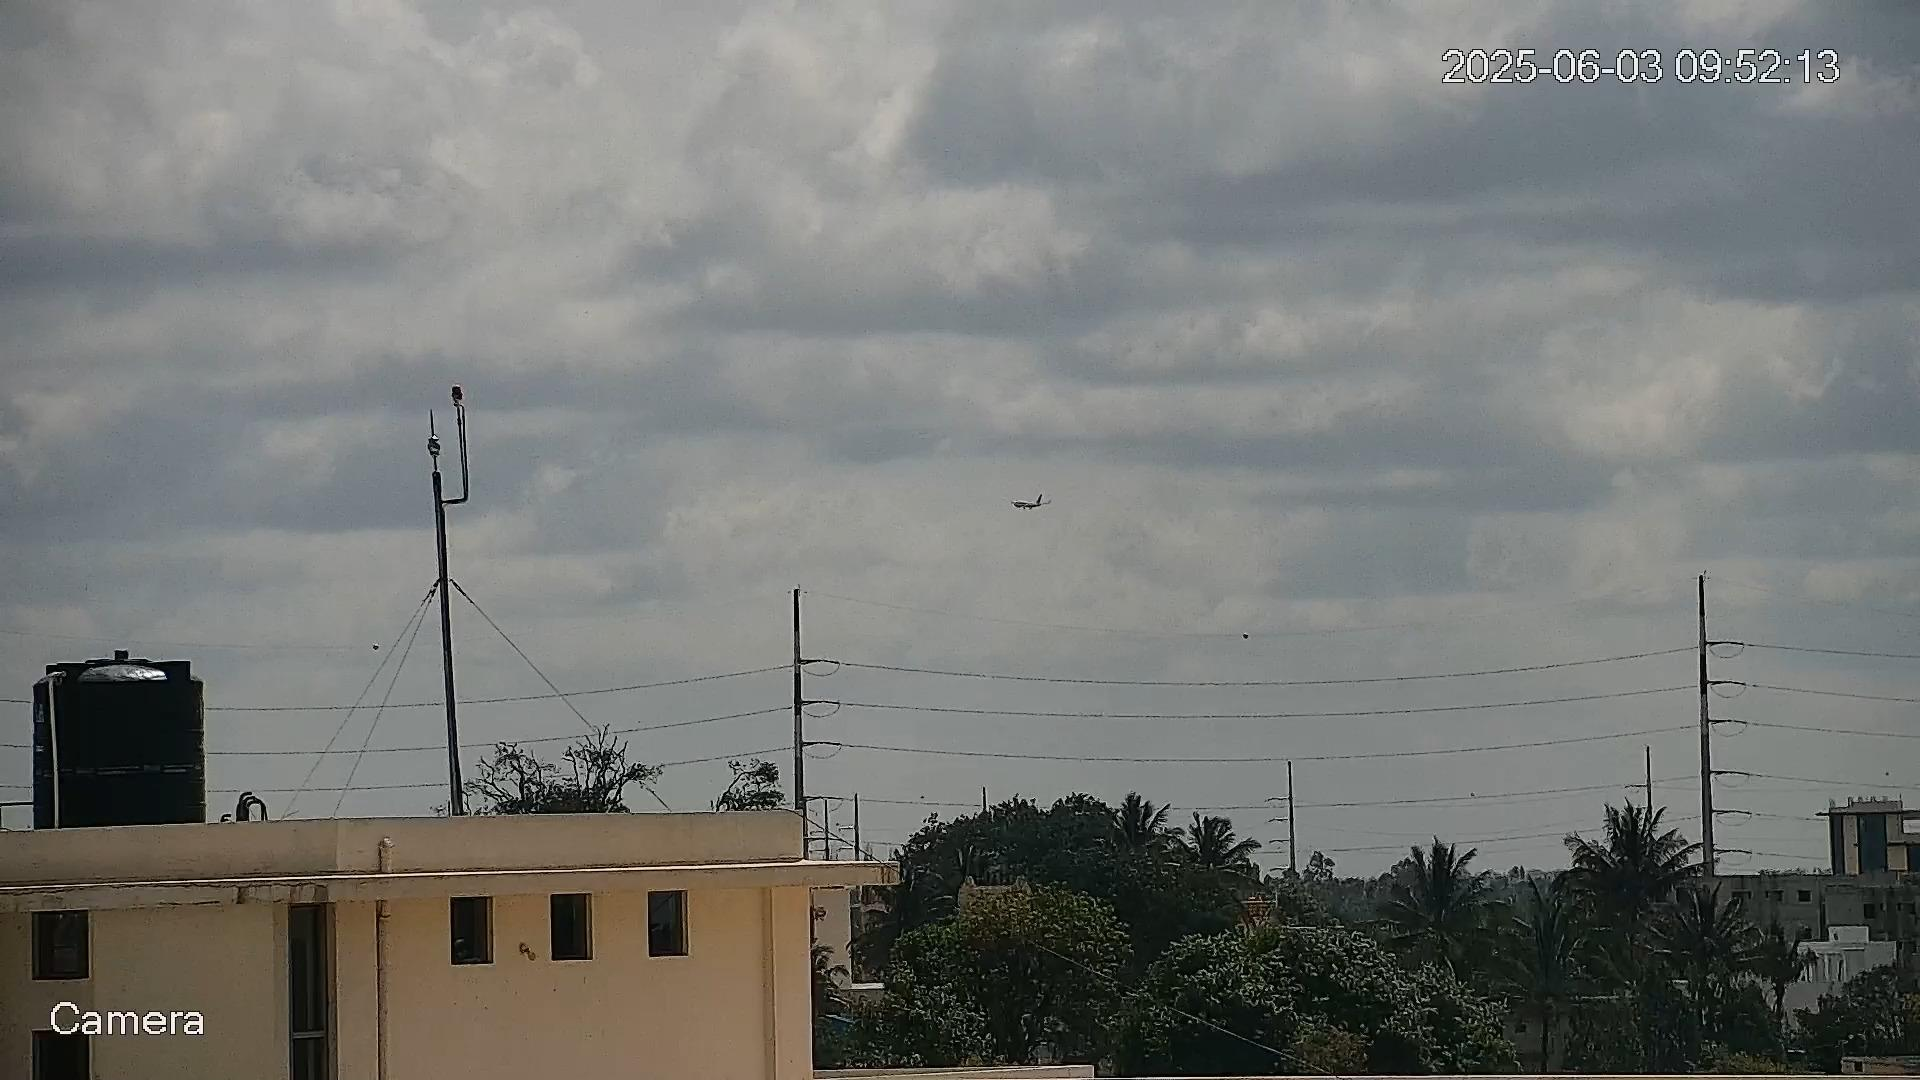Aircraft: (1010, 493, 1050, 510)
